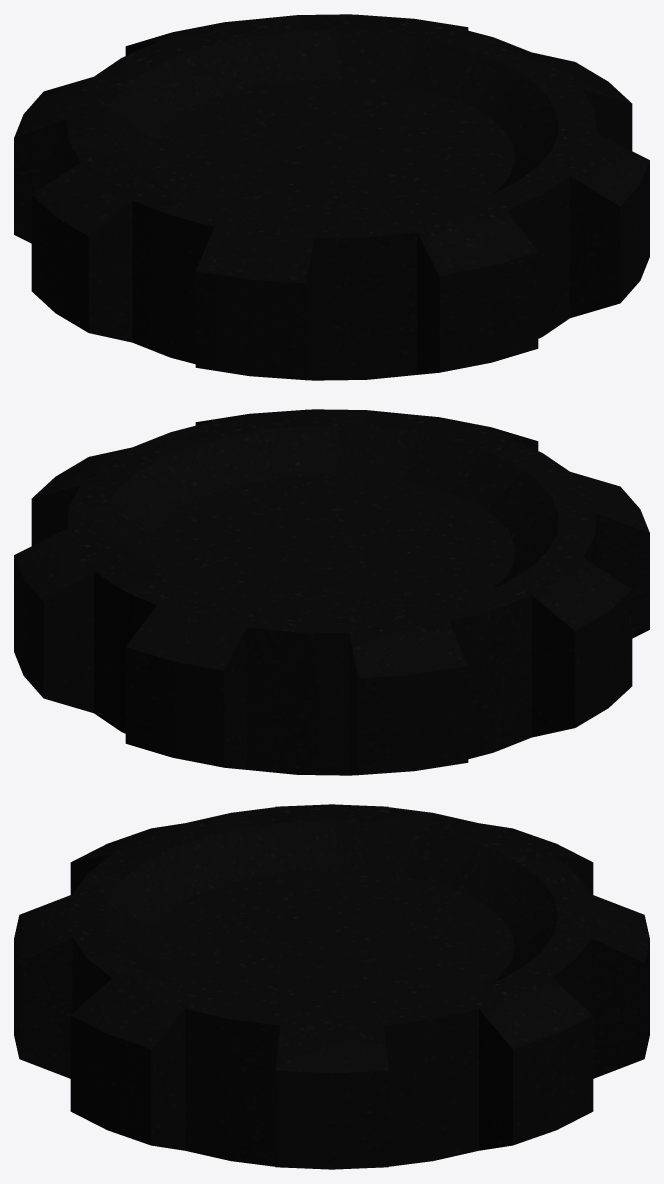
Rendered from Gear.fbx.
The picture shows the model from 3 angles, top to bottom: view 1: azimuth 30°, elevation 25°; view 2: azimuth 150°, elevation 25°; view 3: azimuth 270°, elevation 25°; orthographic projection.
Visible parts, largest first — view 1: Gears; view 2: Gears; view 3: Gears.
Boxes of the visible parts, left/top/right/bottom form: Gears: left=14, top=14, right=649, bottom=380; Gears: left=14, top=409, right=649, bottom=775; Gears: left=14, top=804, right=649, bottom=1169.
Bounding box in the file's own units: 94.53 × 23.26 × 94.53.
